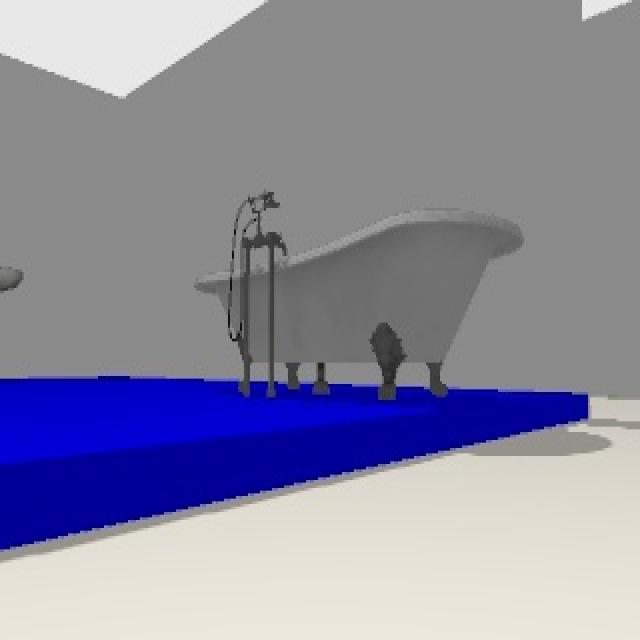bathtub: (196, 189, 533, 396)
